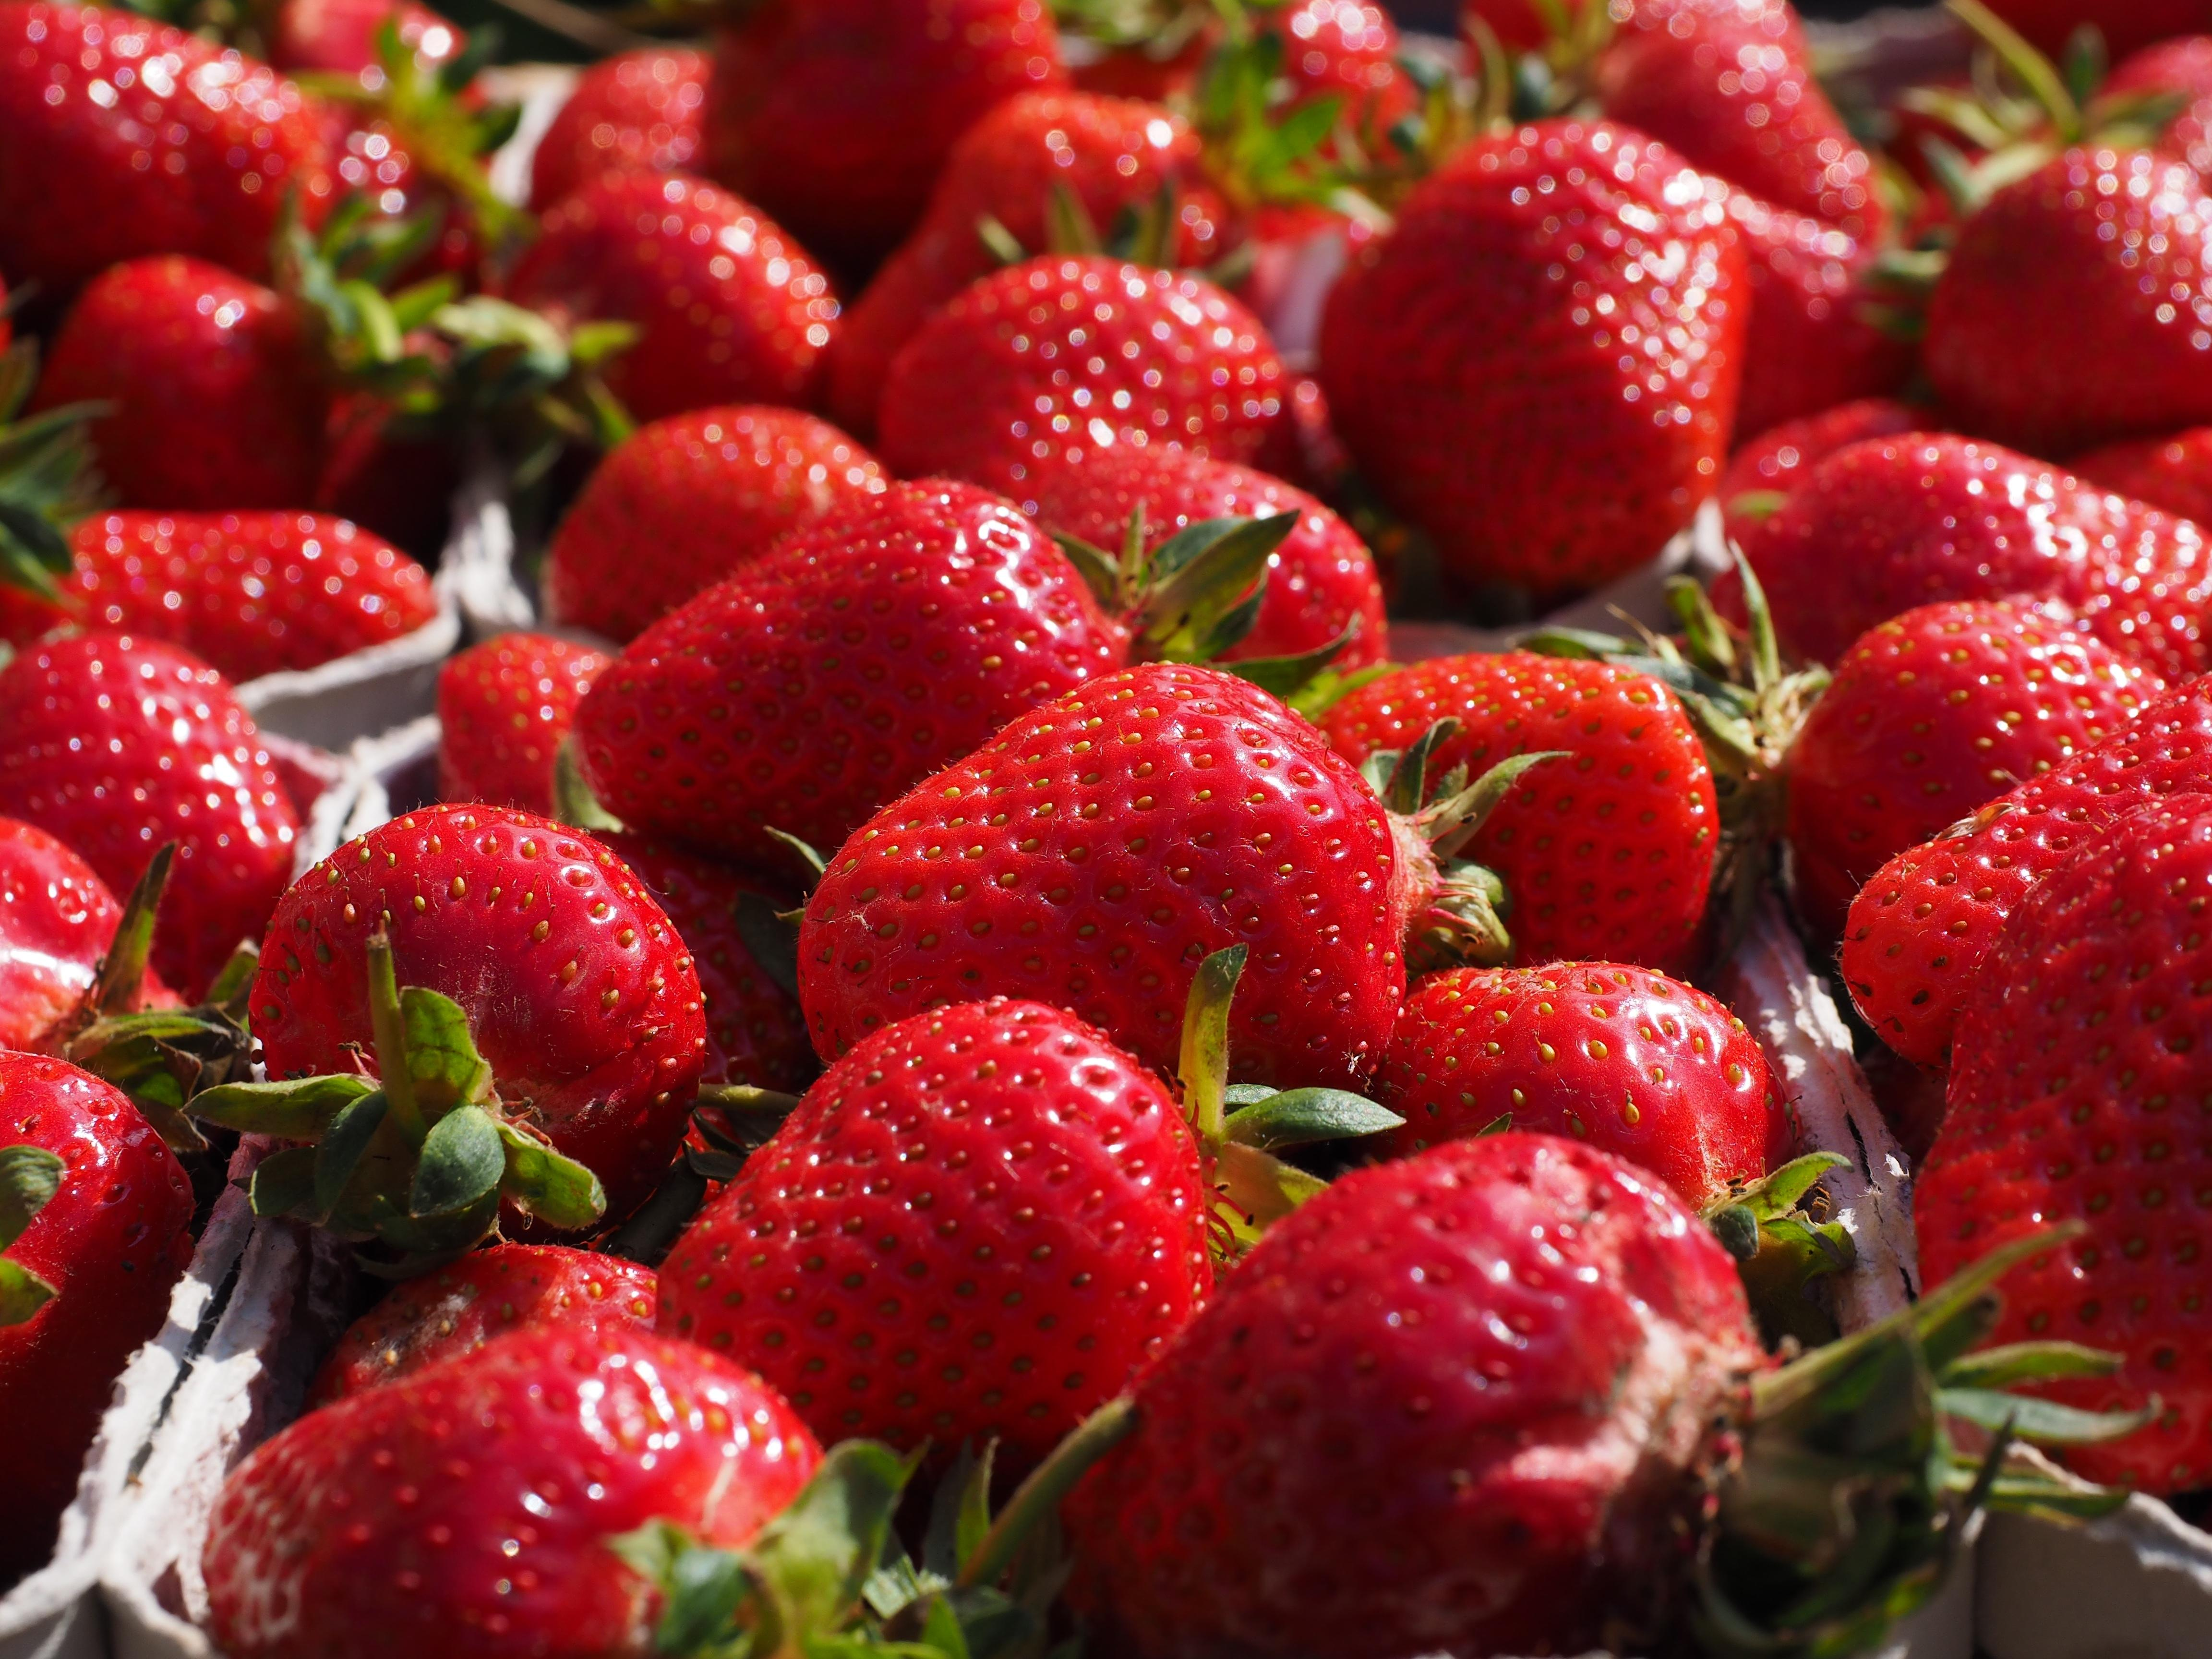strawberry: (1125, 1138, 1972, 1659), (195, 1309, 954, 1659), (794, 648, 1440, 1047), (631, 993, 1184, 1448), (1299, 89, 1740, 592), (158, 809, 719, 1204), (547, 471, 1264, 753)
